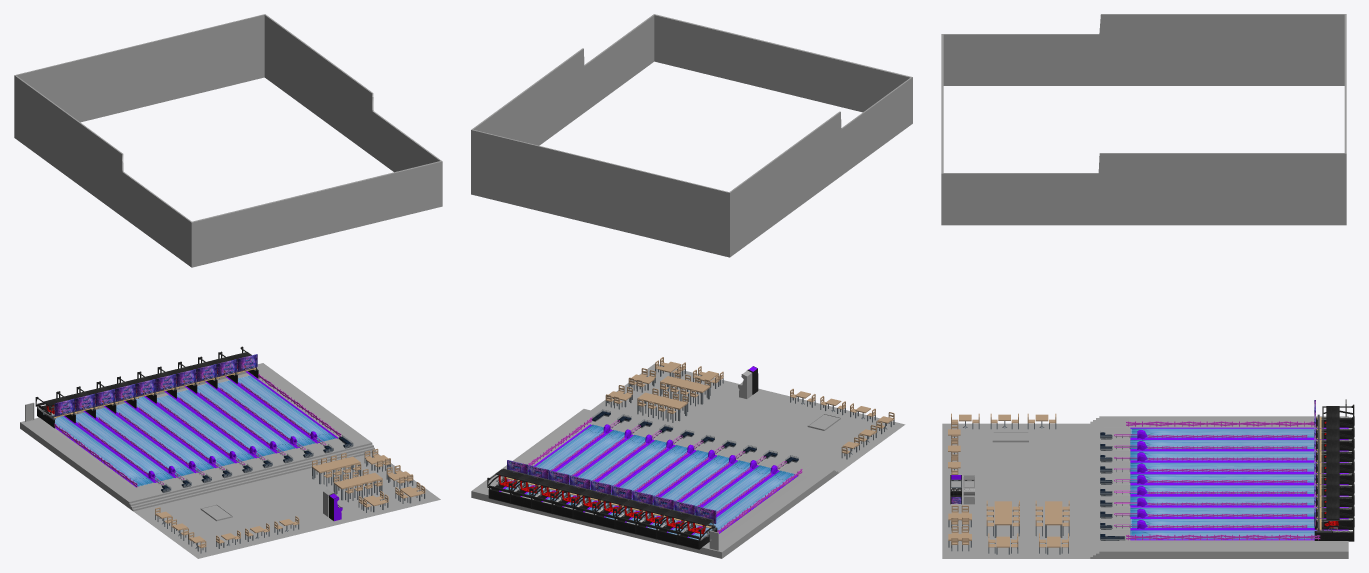
Rendered from WorkingOnBowlingAlley.fbx.
The picture shows the model from 3 angles, left to right: view 1: azimuth 30°, elevation 25°; view 2: azimuth 150°, elevation 25°; view 3: azimuth 270°, elevation 25°; orthographic projection. The views are drawn at different scales.
Parts seen in each view (by area): view 1: pCube281, BowlingAlley:BowlingAlley:BowlingAlley:pCube1, pPlane1, pHelix25, BowlingAlley:BowlingAlley:pCube127; view 2: pCube281, BowlingAlley:BowlingAlley:BowlingAlley:pCube1, pPlane1, pHelix25, BowlingAlley:BowlingAlley:pCube127; view 3: pCube281, BowlingAlley:BowlingAlley:BowlingAlley:pCube1, pPlane1, BowlingAlley:BowlingAlley:pCube127, pHelix25, pCube251, pCube252.
Boxes of the visible parts, <box> form: pCube281: <box>14,14,442,267</box>; BowlingAlley:BowlingAlley:BowlingAlley:pCube1: <box>20,363,376,511</box>; pPlane1: <box>133,453,440,558</box>; pHelix25: <box>35,346,258,428</box>; BowlingAlley:BowlingAlley:pCube127: <box>54,374,341,487</box>; pCube281: <box>471,14,912,257</box>; BowlingAlley:BowlingAlley:BowlingAlley:pCube1: <box>471,409,838,558</box>; pPlane1: <box>474,363,905,558</box>; pHelix25: <box>487,468,717,549</box>; BowlingAlley:BowlingAlley:pCube127: <box>507,417,802,532</box>; pCube281: <box>941,14,1346,225</box>; BowlingAlley:BowlingAlley:BowlingAlley:pCube1: <box>1090,416,1348,558</box>; pPlane1: <box>942,423,1090,558</box>; BowlingAlley:BowlingAlley:pCube127: <box>1126,421,1320,540</box>; pHelix25: <box>1314,404,1354,541</box>; pCube251: <box>994,501,1011,537</box>; pCube252: <box>1045,501,1062,537</box>.
Size of the model in its own units: 24.67 by 33.41 by 30.84.
